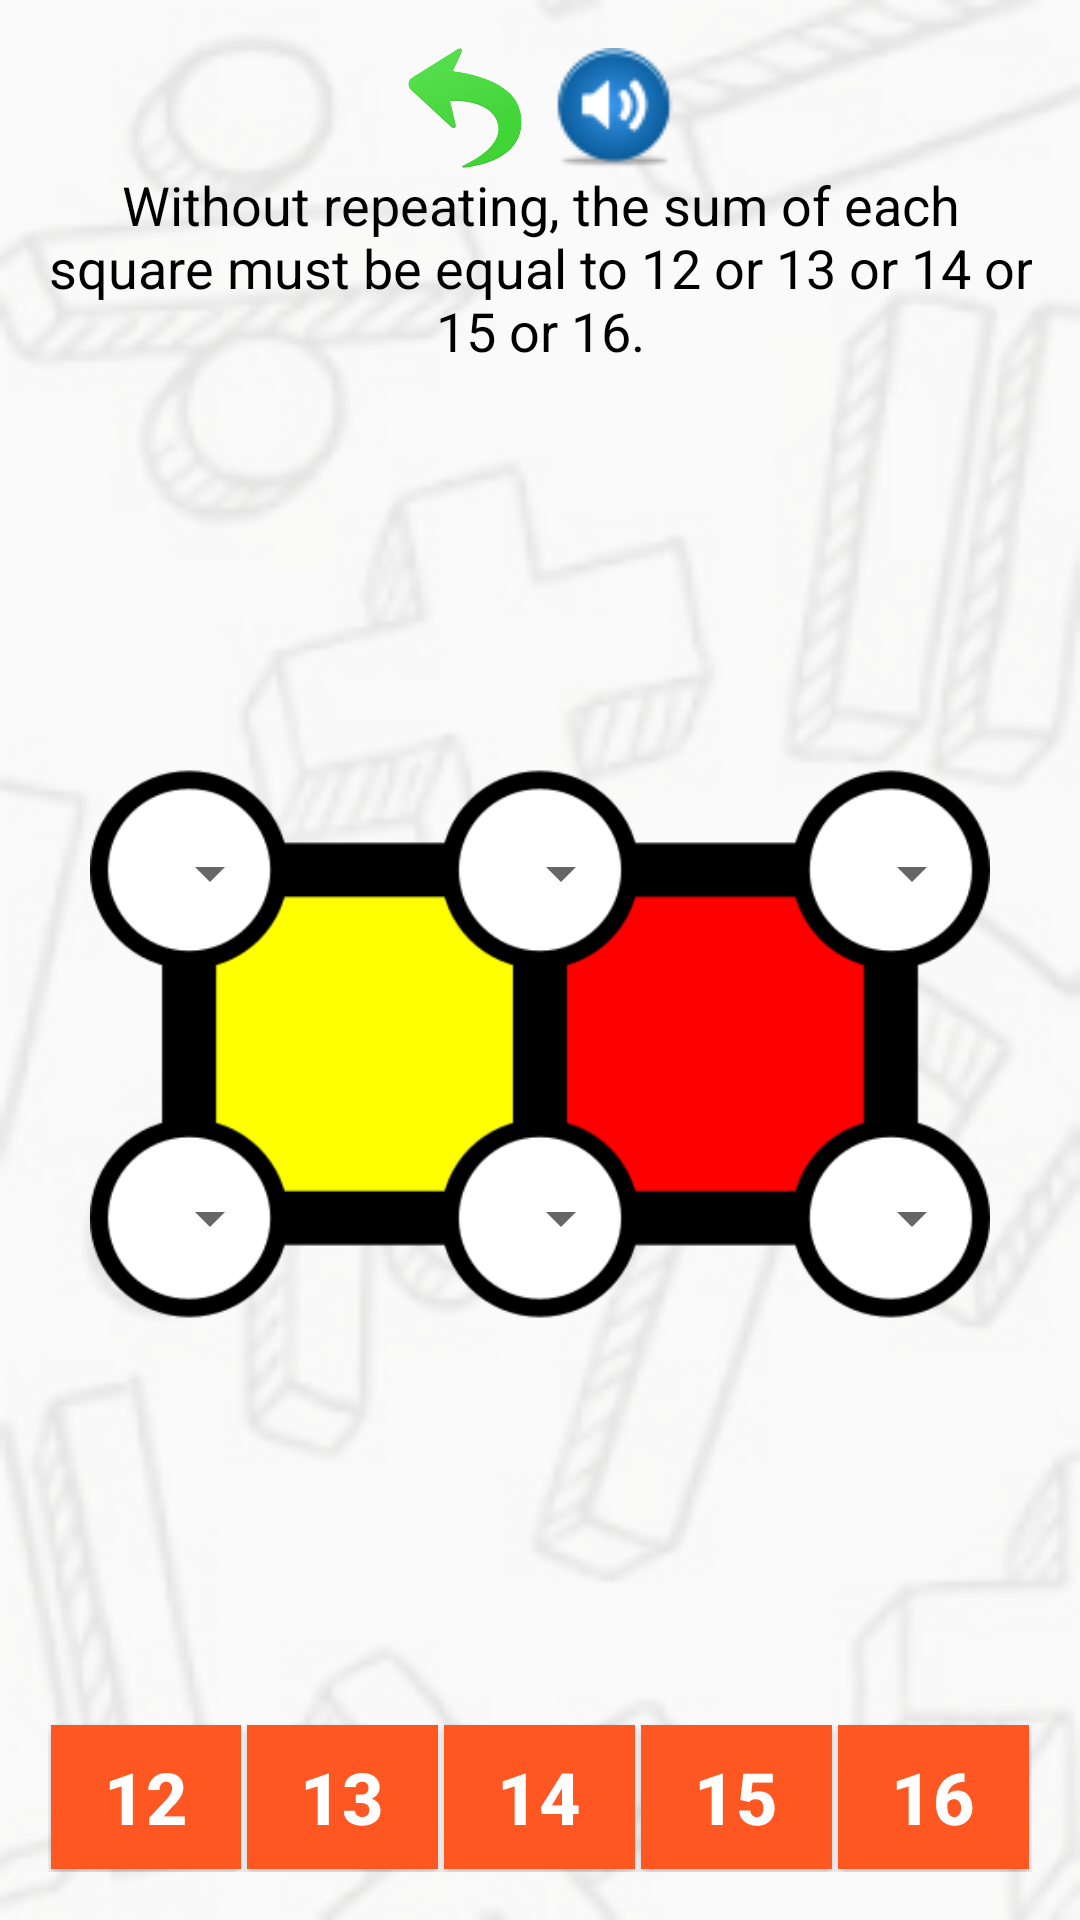

Where to tap for icons on this 1080x1920 app screen, as point (x, y):
som: point (614, 107)
voltar: point (465, 108)
